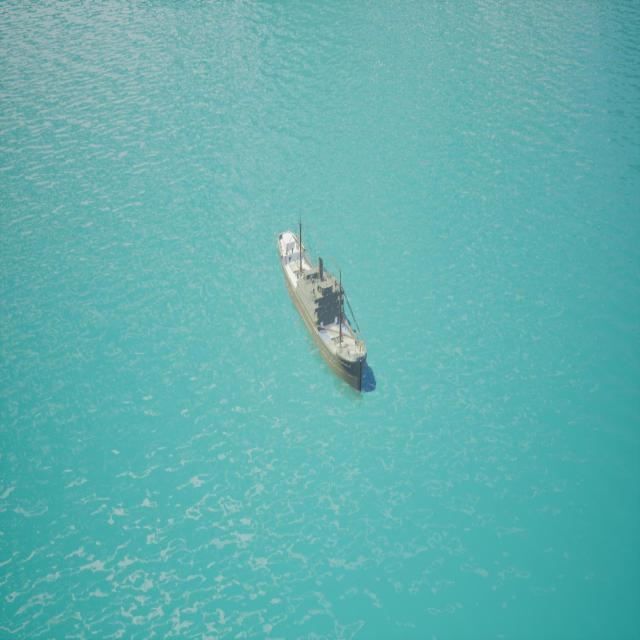fishing ship: (272, 198, 385, 410)
